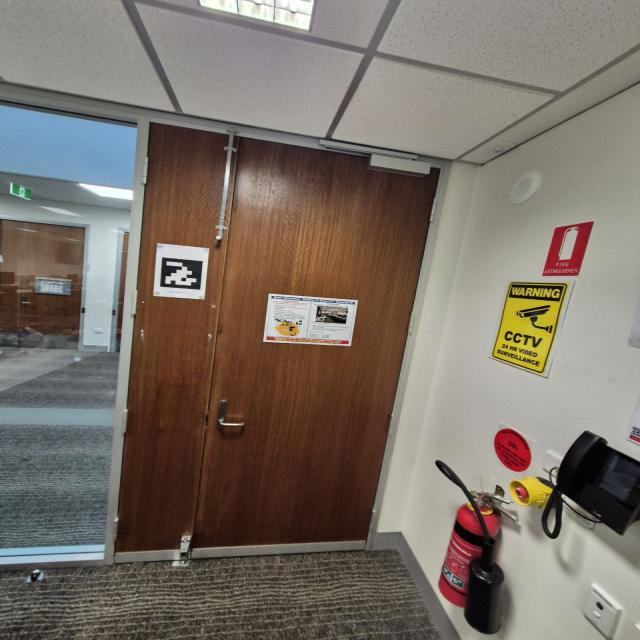doorhandle: (200, 139, 445, 550), (215, 411, 259, 431)
